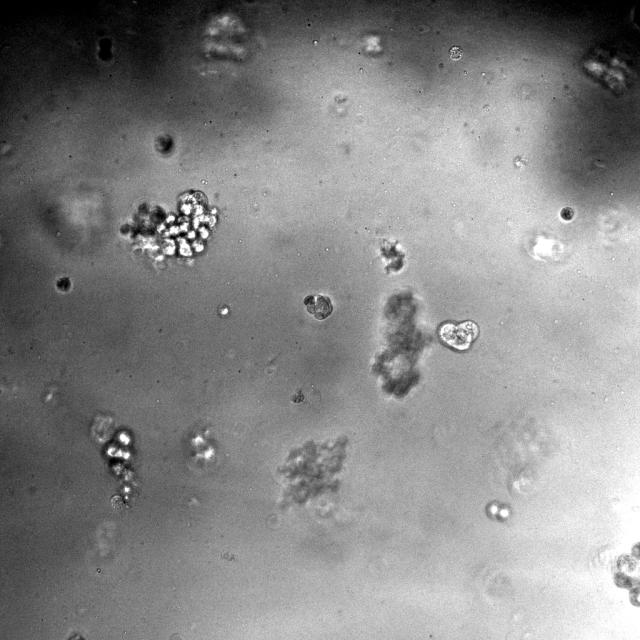organoid: (120, 189, 218, 269), (371, 290, 432, 399), (278, 436, 348, 504), (89, 414, 139, 508), (612, 542, 639, 606), (437, 319, 479, 351), (381, 239, 405, 274), (303, 294, 332, 319), (485, 500, 512, 522), (154, 132, 175, 157), (56, 276, 72, 294), (560, 207, 574, 221)
